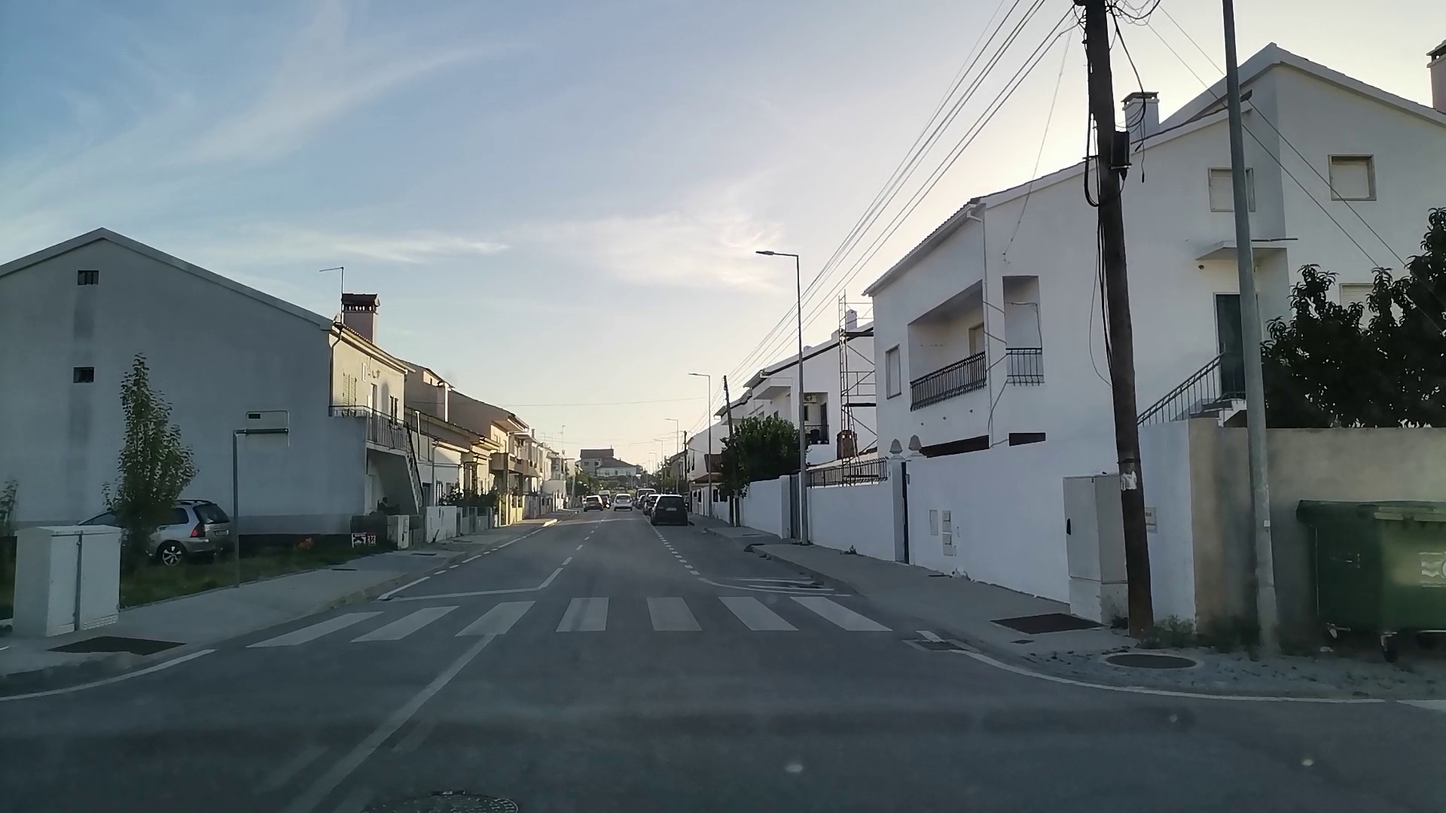Stairs: (252, 593, 892, 645)
